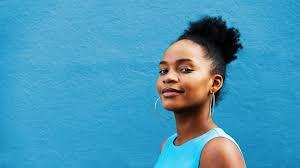Persons: (140, 12, 253, 130)
